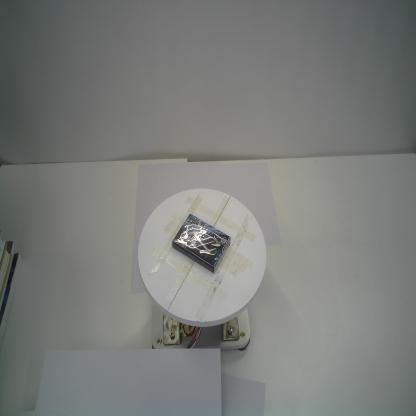Gum: (171, 214, 232, 275)
